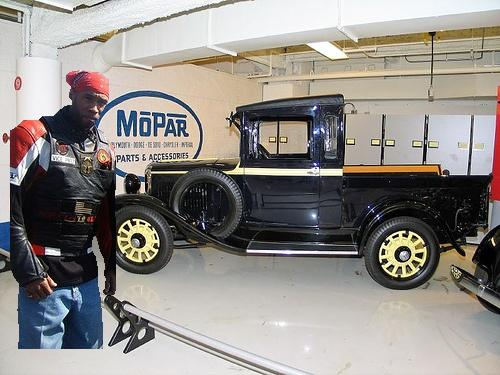tampered: (11, 71, 116, 349)
